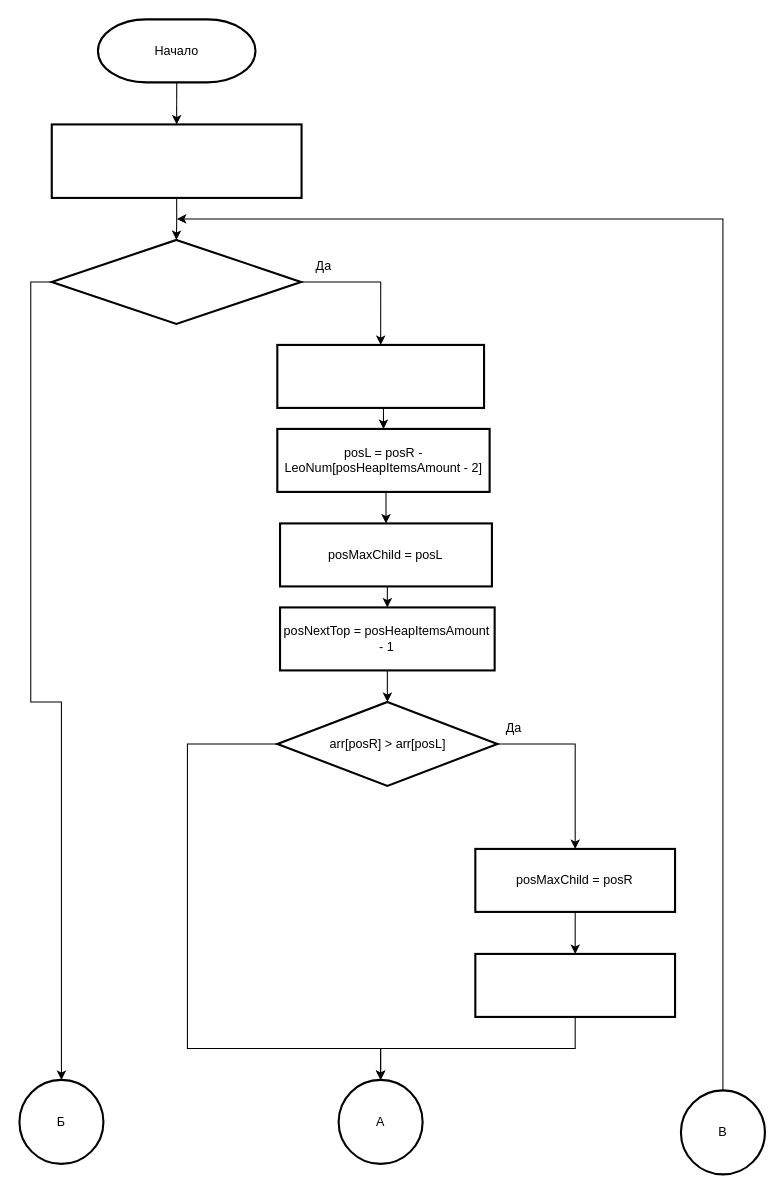
The diagram is 783 pixels wide and 1193 high, and some of its shapes have lost their labels. The shapes that lost their labels are listed below. From the top down, each one's centre as x and y in pixels, then its label:
the point at 176,160: arr, posHeapItemsAmount, indexLastTop, posCurNode = indexLastTop
the point at 176,281: posHeapItemsAmount > 1
the point at 380,375: posR = posCurNode - 1
the point at 575,984: posNextTop = posHeapItemsAmount - 2
